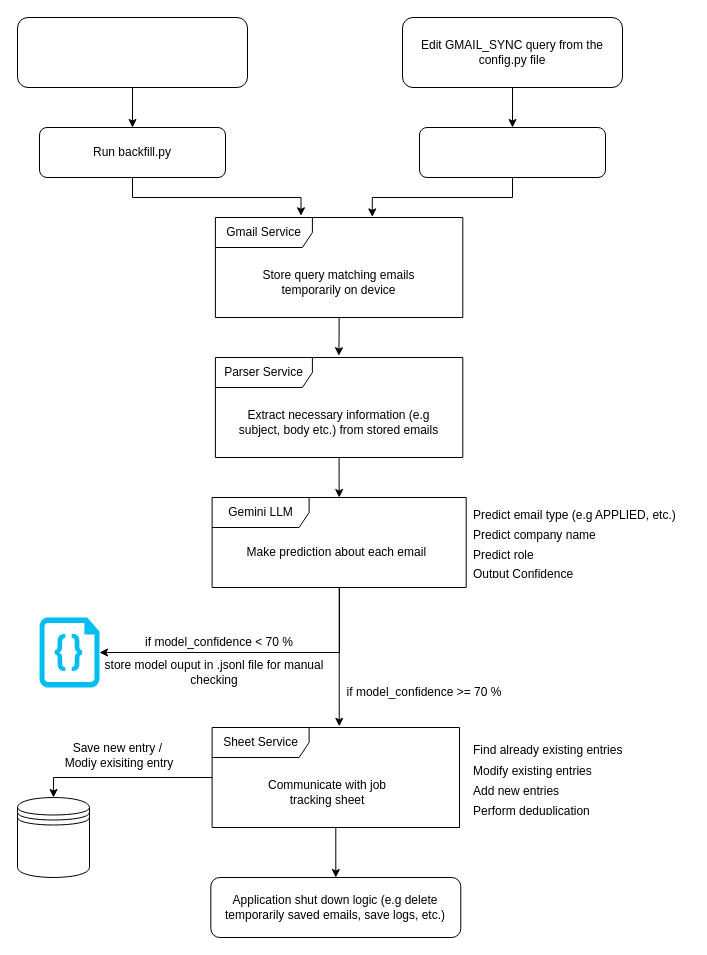
Some shapes in this 707 by 955 pixel diagram are drawn without their labels. Each missing label, with the centre of its shape:
"Edit GMAIL_BACKFILL query from the config.py file" goes at (x=132, y=52).
"Google Sheet" goes at (x=53, y=837).
"Run sync.py" goes at (x=512, y=152).
